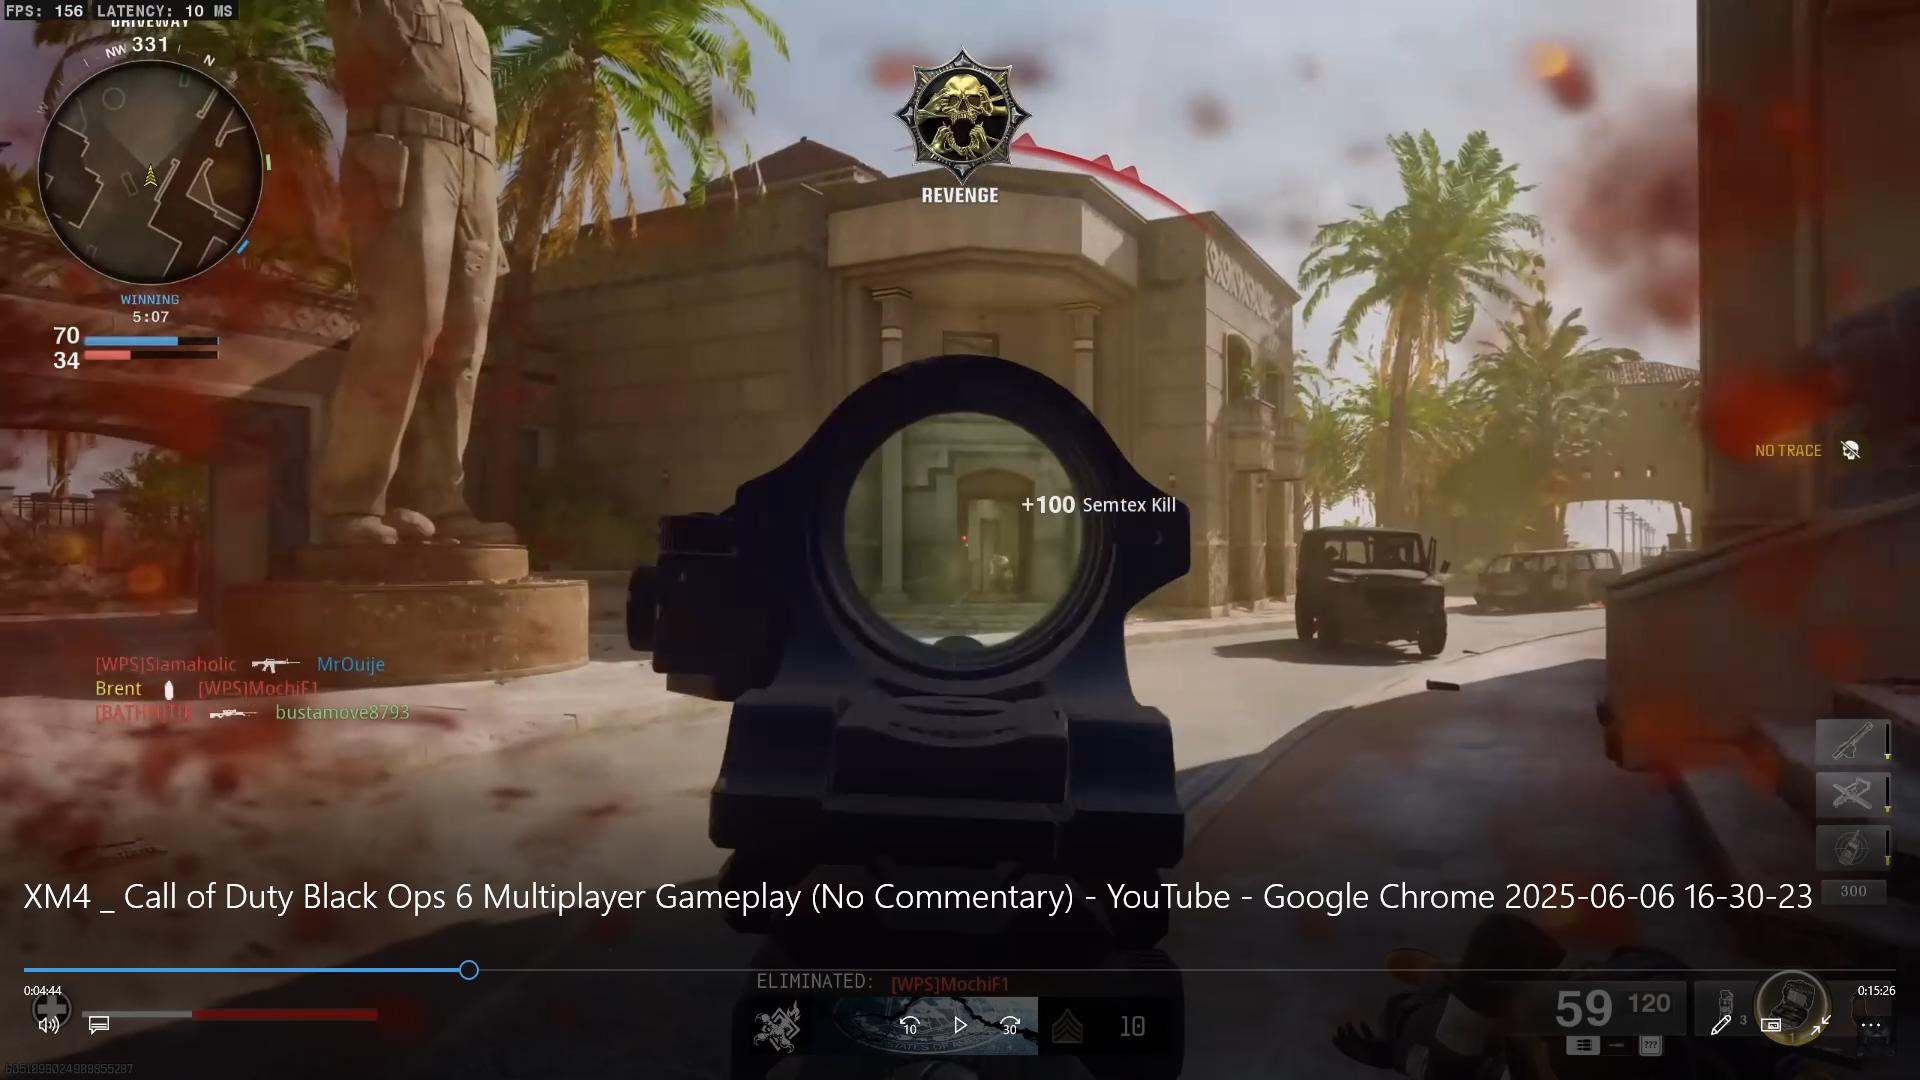Enemy: (982, 538, 1021, 596)
